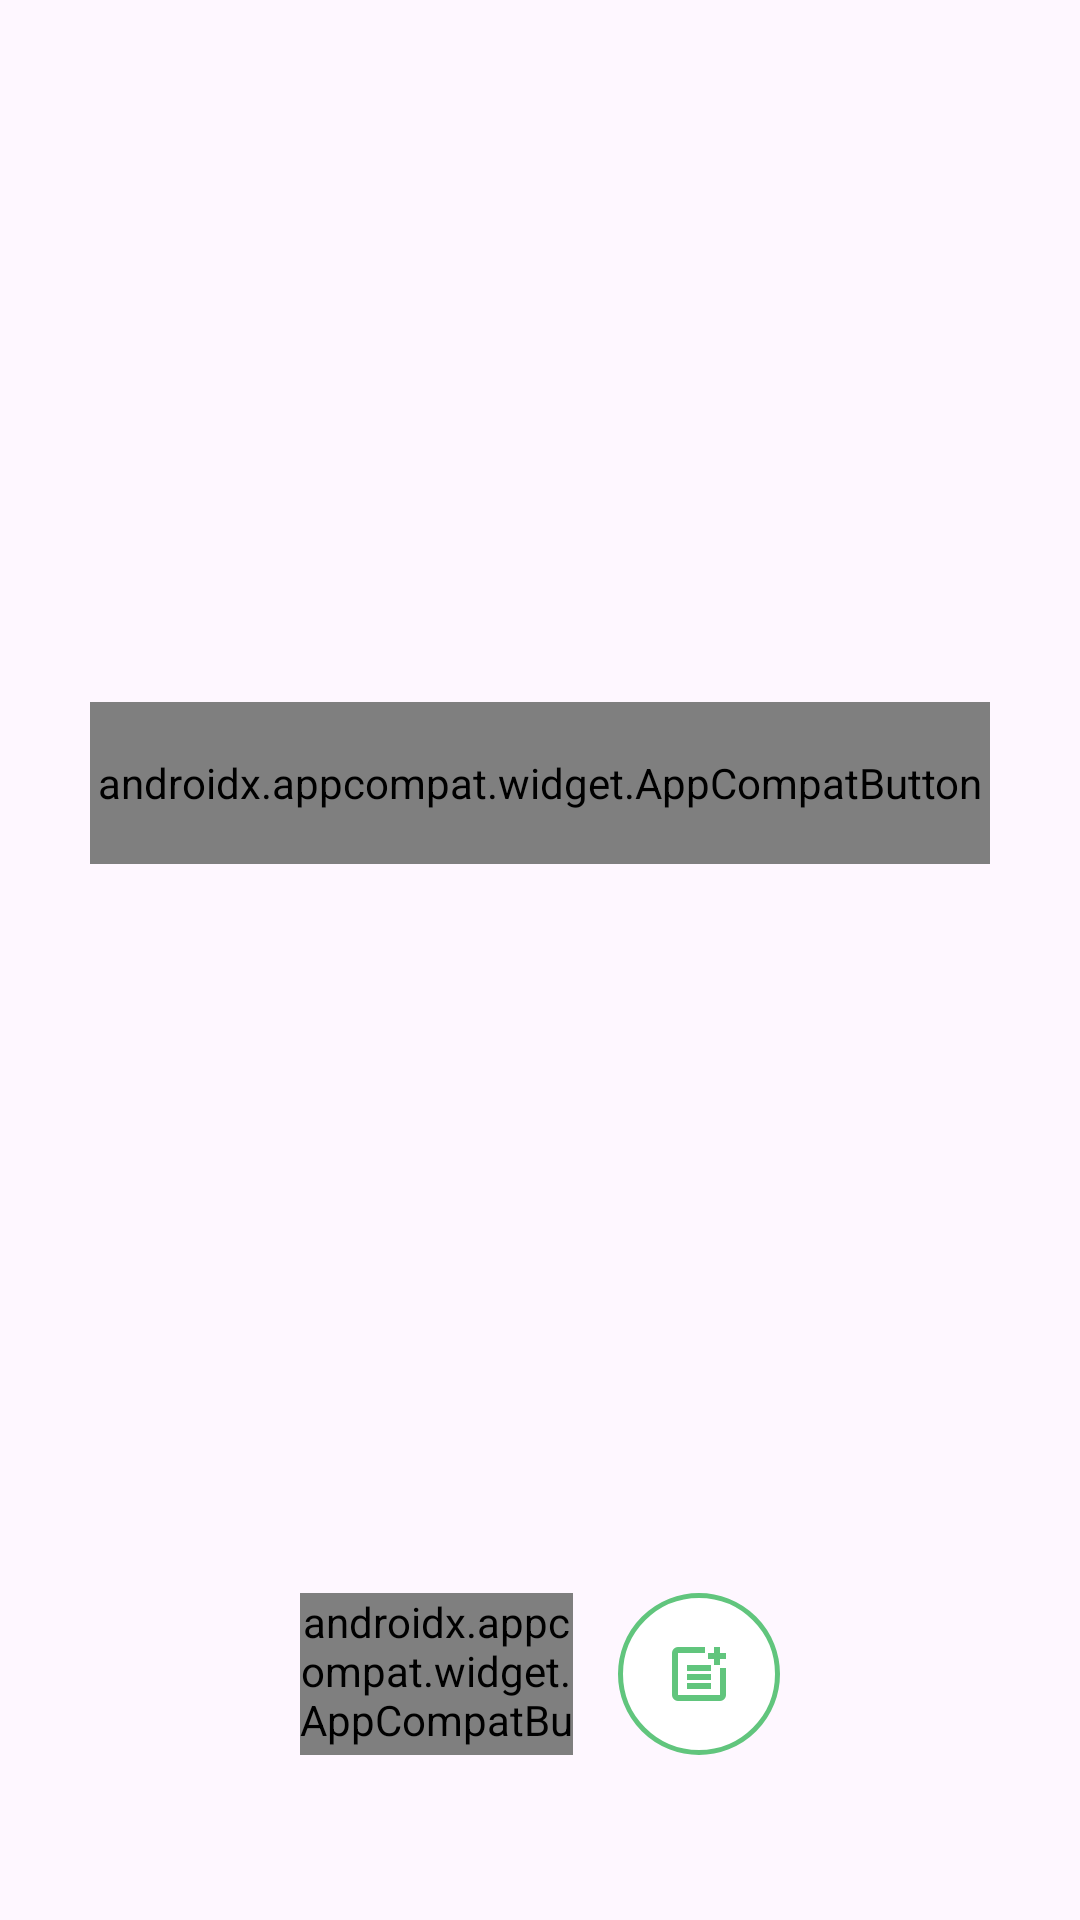

Point at icon controls on the screen. Image size 1080px x 1920px, points as (x,y).
post add: (699,1674)
